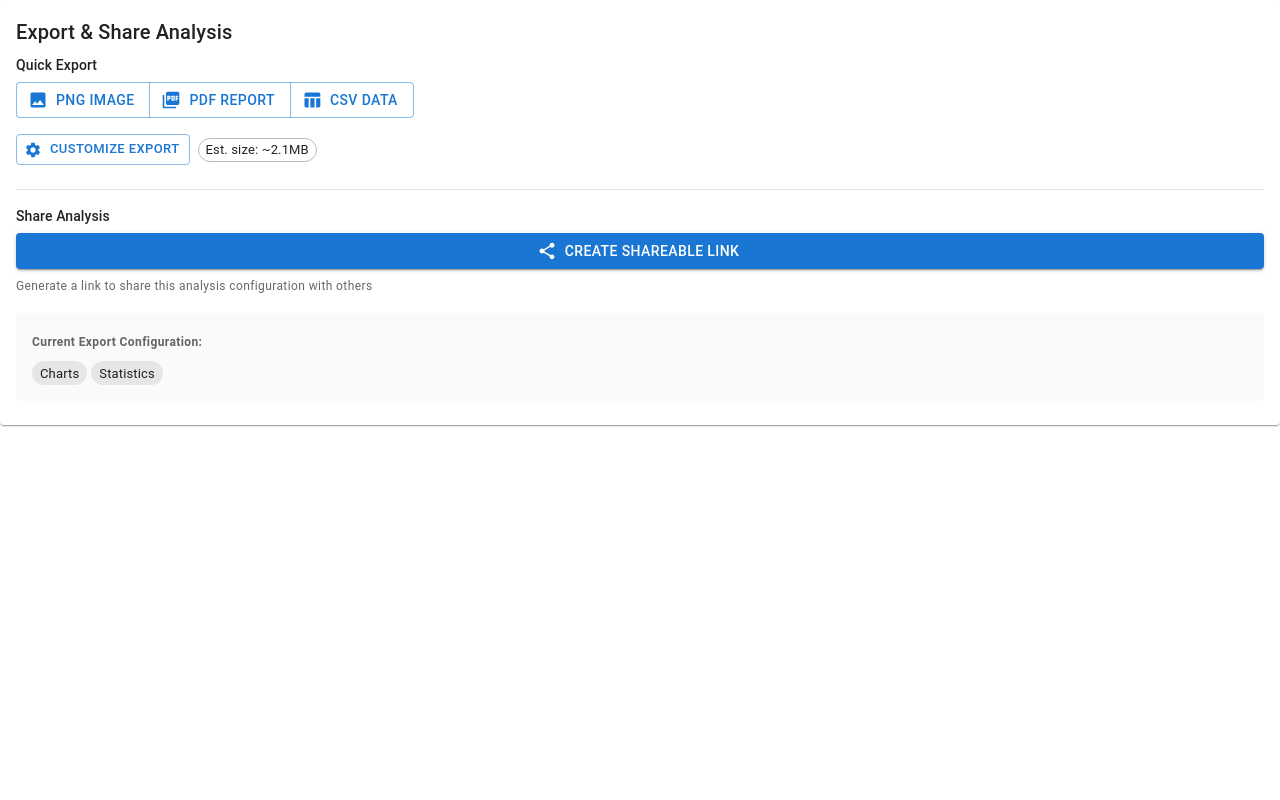
Test case: ExportControls › should display error message when export fails
Click the button "PNG Image".
click(83, 100)  # box [16,82,150,118]
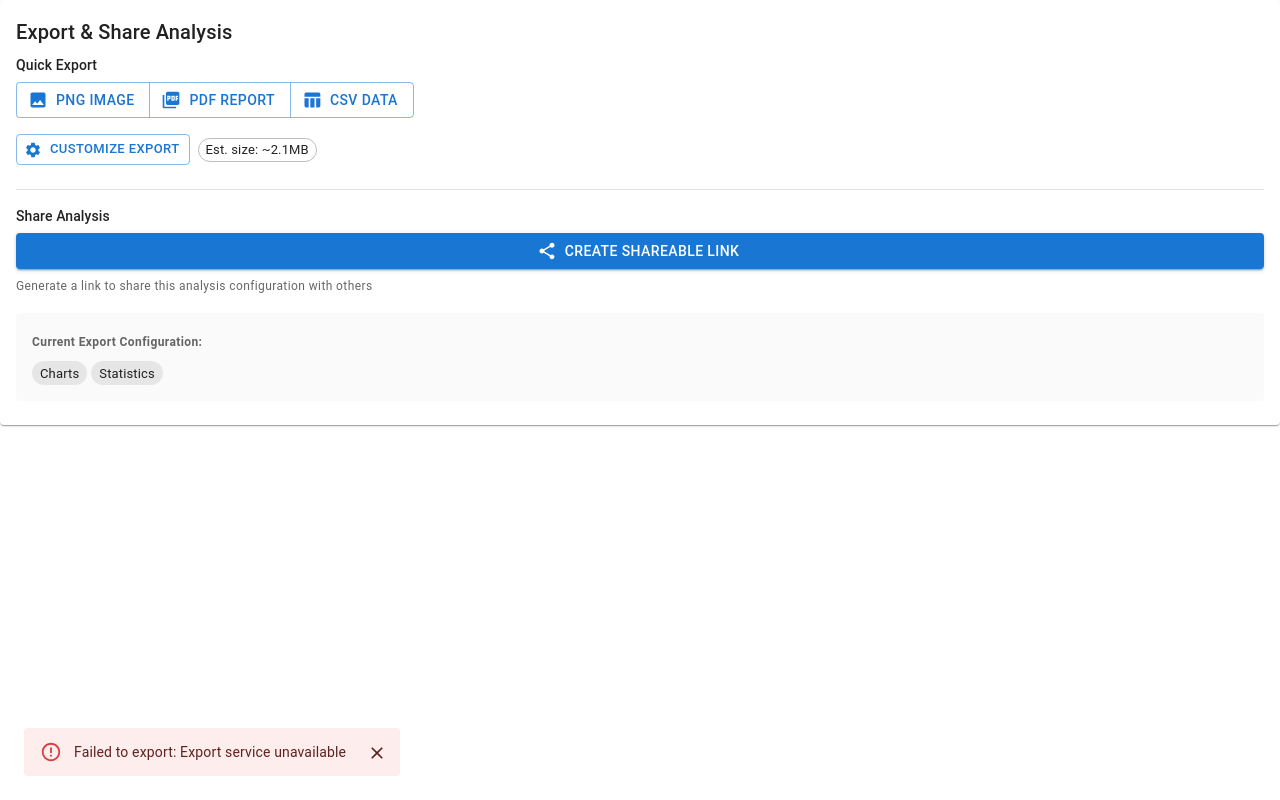
Now the text "Failed to export: Export service unavailable" is shown, box [74,744,346,760]
